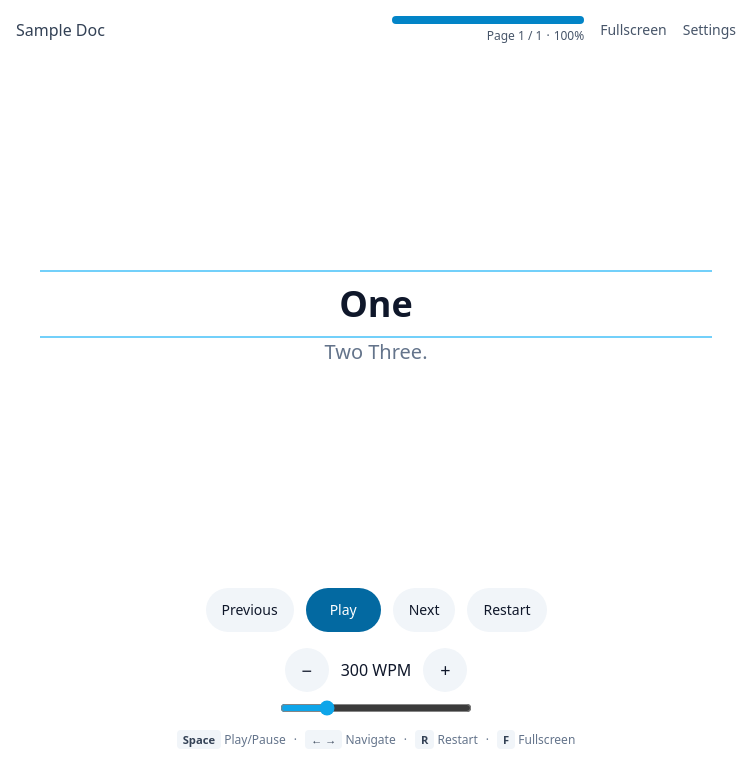
Test case: ReaderPage › steps forward and backward with Next and Previous, and words already passed stay visible as read text
Click the button with aria-label "Next token" at (424, 610), box [393,588,455,632]
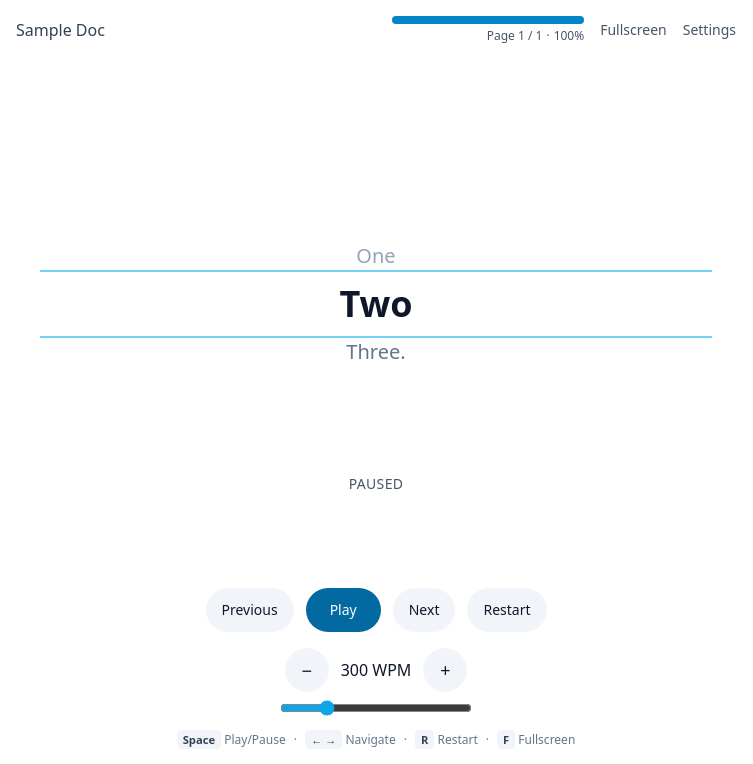
Expected: the text with test id "current-token" reads "Two", [339,279,413,328]
Expected: the text "One" is shown, [356,242,396,269]
Click the button with aria-label "Previous token" at (250, 610), box [206,588,294,632]
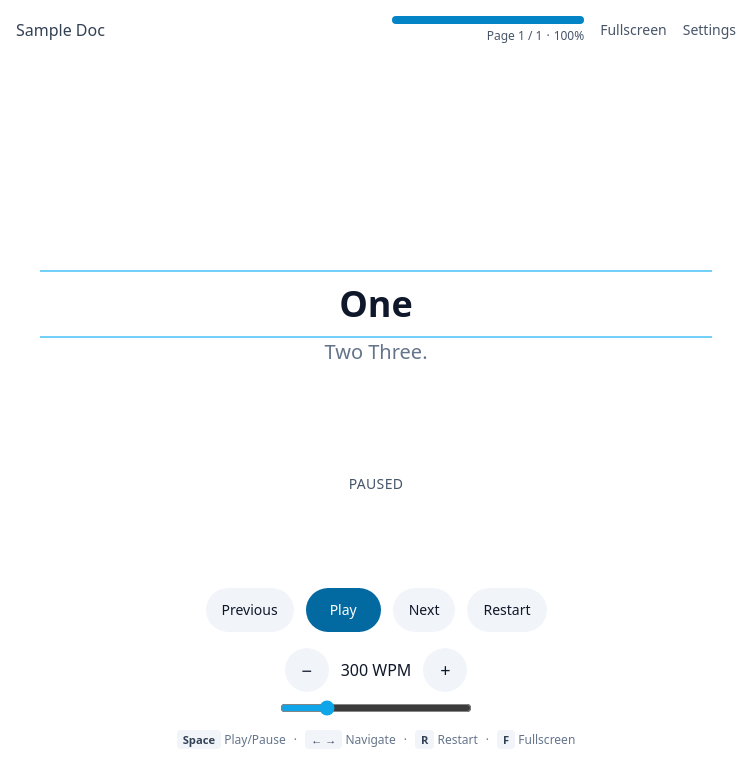
Expected: the text with test id "current-token" reads "One", [339,279,413,328]
